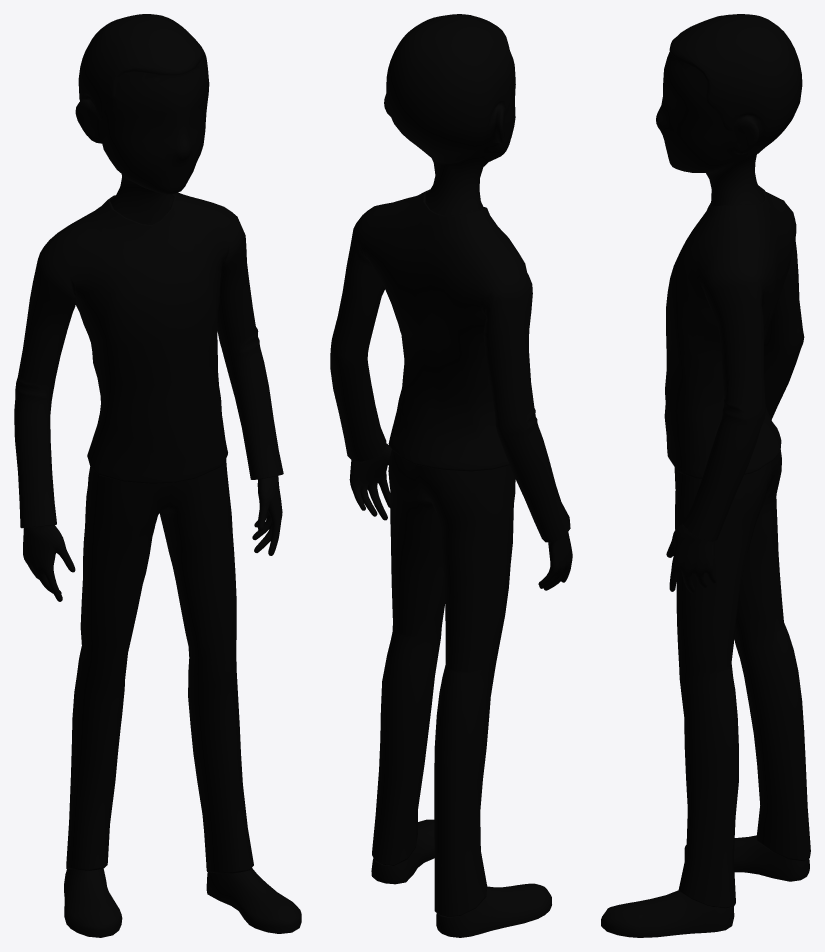
File: man1.fbx
3 renders of one model, left to right at view 1: azimuth 30°, elevation 25°; view 2: azimuth 150°, elevation 25°; view 3: azimuth 270°, elevation 25°, orthographic.
Visible parts, largest first — view 1: root; view 2: root; view 3: root.
Part boxes in pixels (bbox=[...]): root: bbox=[14, 14, 301, 937]; root: bbox=[330, 14, 572, 937]; root: bbox=[601, 14, 810, 937].
Size of the model in its own units: 0.075 by 0.2648 by 0.058.
1 material, 1 textured.
